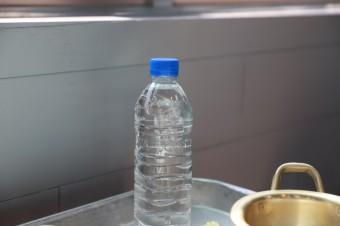bottle: (129, 57, 201, 226)
